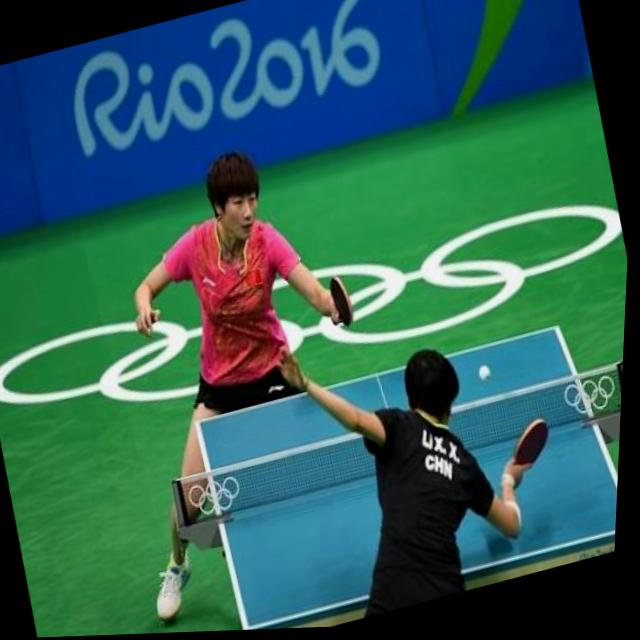TT Net: (167, 357, 623, 540)
TT Racket: (505, 406, 556, 479), (323, 265, 359, 336)
TT Table: (193, 325, 618, 628)
